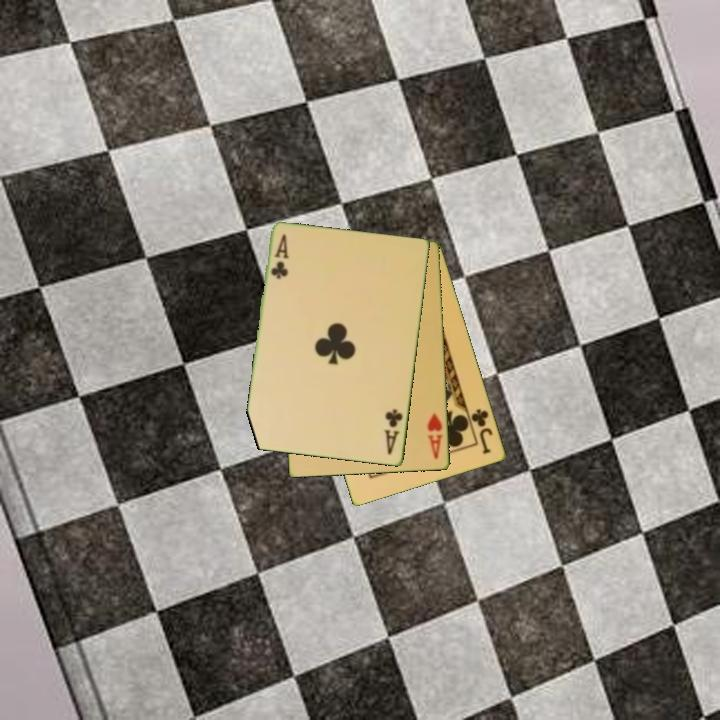Ac: (381, 406, 406, 458), (268, 231, 292, 282)
Ah: (424, 410, 446, 462)
Jc: (468, 405, 496, 457)
